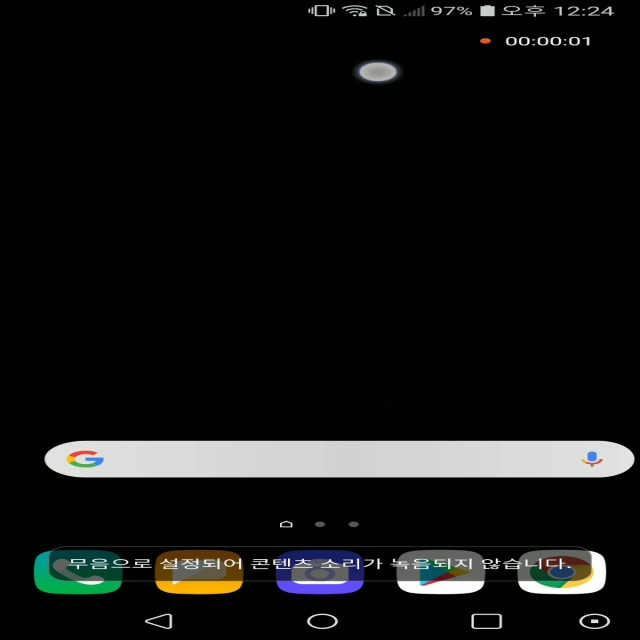Cursor: (356, 61, 400, 83)
